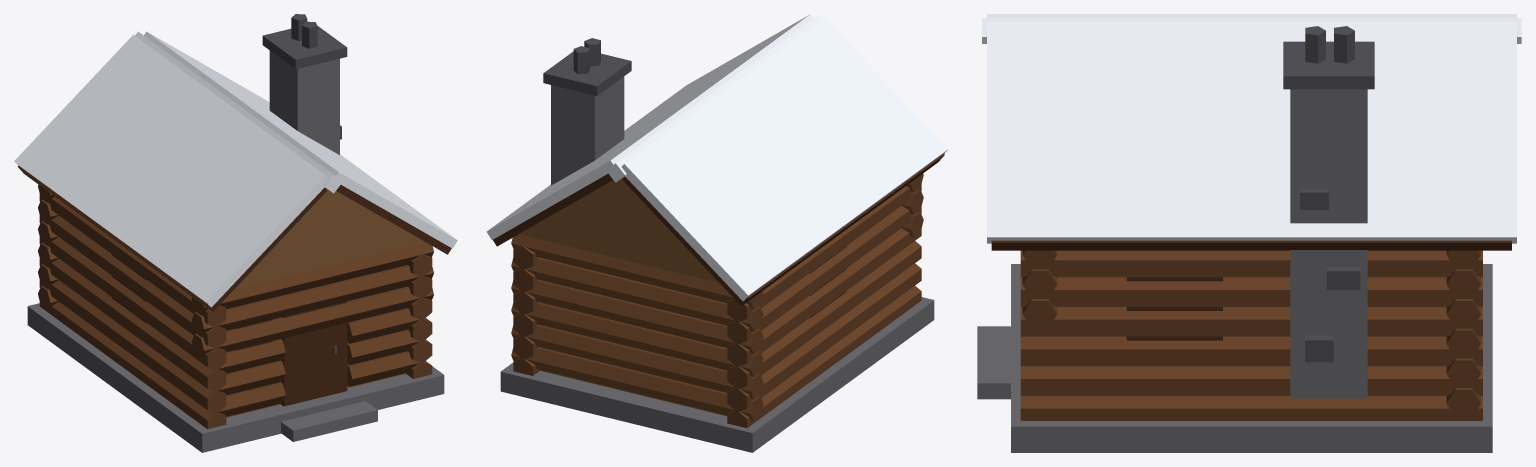
Rendered from cozy_cabin.glb.
The picture shows the model from 3 angles, left to right: view 1: azimuth 30°, elevation 25°; view 2: azimuth 150°, elevation 25°; view 3: azimuth 270°, elevation 25°; orthographic projection. The views are drawn at different scales.
Visible parts, largest first — view 1: Flocon_Cozy_Cabin; view 2: Flocon_Cozy_Cabin; view 3: Flocon_Cozy_Cabin.
Boxes of the visible parts, box(x1,y1,x2,y2) form: Flocon_Cozy_Cabin: box(14, 14, 457, 452); Flocon_Cozy_Cabin: box(486, 14, 948, 452); Flocon_Cozy_Cabin: box(977, 14, 1521, 452).
Bounding box in the file's own units: 4.16 × 4.65 × 5.65.
